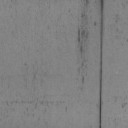surface scratch: (99, 0, 104, 128), (80, 46, 84, 54), (78, 28, 80, 42), (122, 103, 127, 108), (85, 0, 89, 6), (82, 76, 84, 84)
